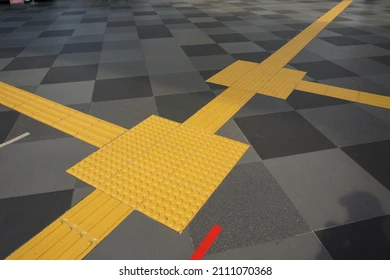piso_tatil: (1, 22, 389, 260)
piso_tatil_alerta: (133, 170, 211, 234), (99, 161, 167, 208), (64, 148, 126, 188), (169, 153, 231, 187), (131, 114, 182, 142), (161, 124, 212, 152), (199, 135, 250, 163), (104, 130, 155, 158), (138, 143, 189, 171), (229, 76, 270, 93), (257, 83, 295, 100), (205, 72, 241, 87), (247, 62, 282, 76), (275, 67, 307, 81), (268, 74, 301, 87), (228, 57, 261, 69), (239, 69, 273, 80), (221, 66, 250, 77)
piso_tatil_direcional: (59, 188, 134, 247), (6, 217, 100, 261), (73, 120, 131, 149), (50, 109, 101, 136), (183, 109, 233, 134), (29, 103, 79, 125), (11, 97, 60, 116), (201, 98, 247, 115), (323, 83, 362, 103), (294, 79, 331, 97), (359, 90, 390, 111), (1, 90, 39, 107), (219, 88, 255, 103), (270, 46, 301, 60), (257, 56, 291, 67), (280, 39, 307, 51), (293, 30, 318, 42), (301, 25, 324, 34)
piso_tatil_direcional_horizontal: (71, 118, 129, 147), (48, 107, 99, 134), (27, 101, 77, 123), (9, 95, 58, 114), (321, 81, 360, 101), (292, 77, 329, 95), (357, 88, 388, 109), (3, 92, 41, 109)
piso_tatil_direcional_vertical: (57, 186, 132, 245), (4, 215, 98, 259), (181, 107, 231, 132), (199, 96, 245, 113), (217, 86, 253, 101), (268, 44, 299, 58), (255, 54, 289, 65), (278, 37, 305, 49), (291, 28, 316, 40), (299, 23, 322, 32)
